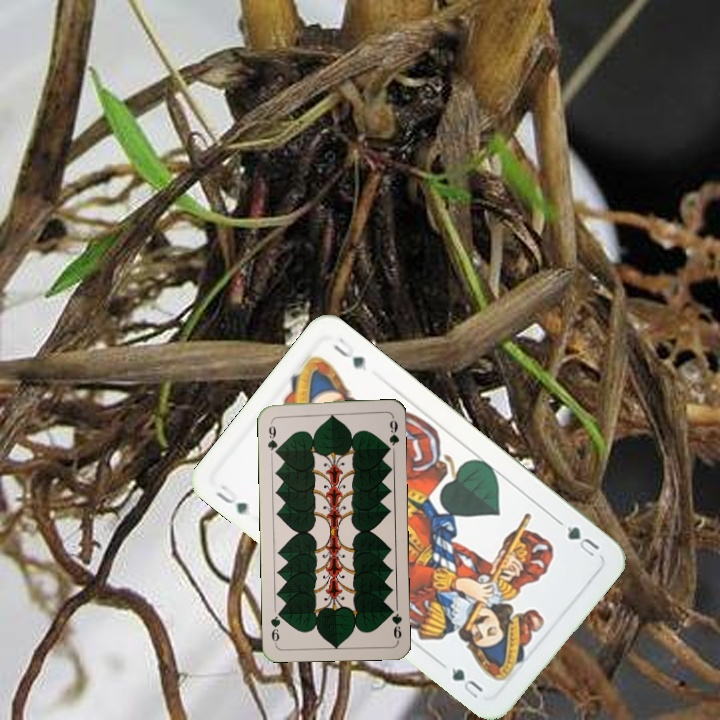G9: (385, 603, 405, 643), (263, 417, 281, 457)
GU: (211, 480, 253, 519), (562, 521, 602, 560)
